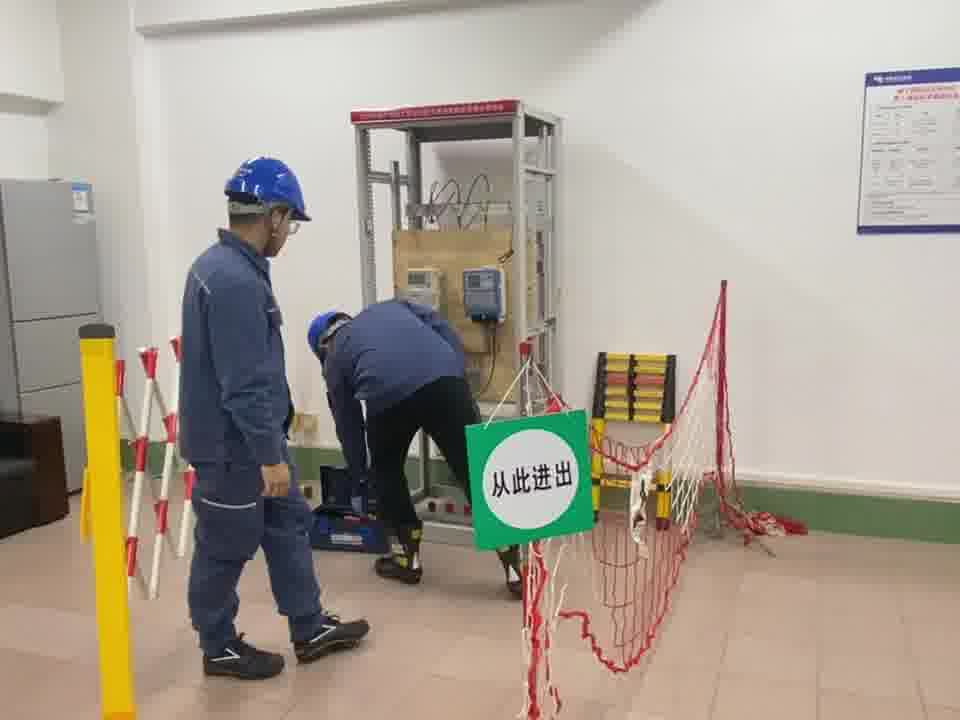downcloth: (354, 393, 476, 556)
downsuit: (185, 465, 329, 644)
halt: (221, 155, 310, 256), (305, 309, 352, 362)
hand: (260, 458, 293, 500)
inear: (260, 199, 292, 246)
intosign: (463, 408, 595, 551)
person: (170, 150, 341, 678), (308, 296, 477, 581)
shoe: (372, 522, 428, 584)
upsuit: (181, 242, 292, 458), (321, 296, 472, 402)
